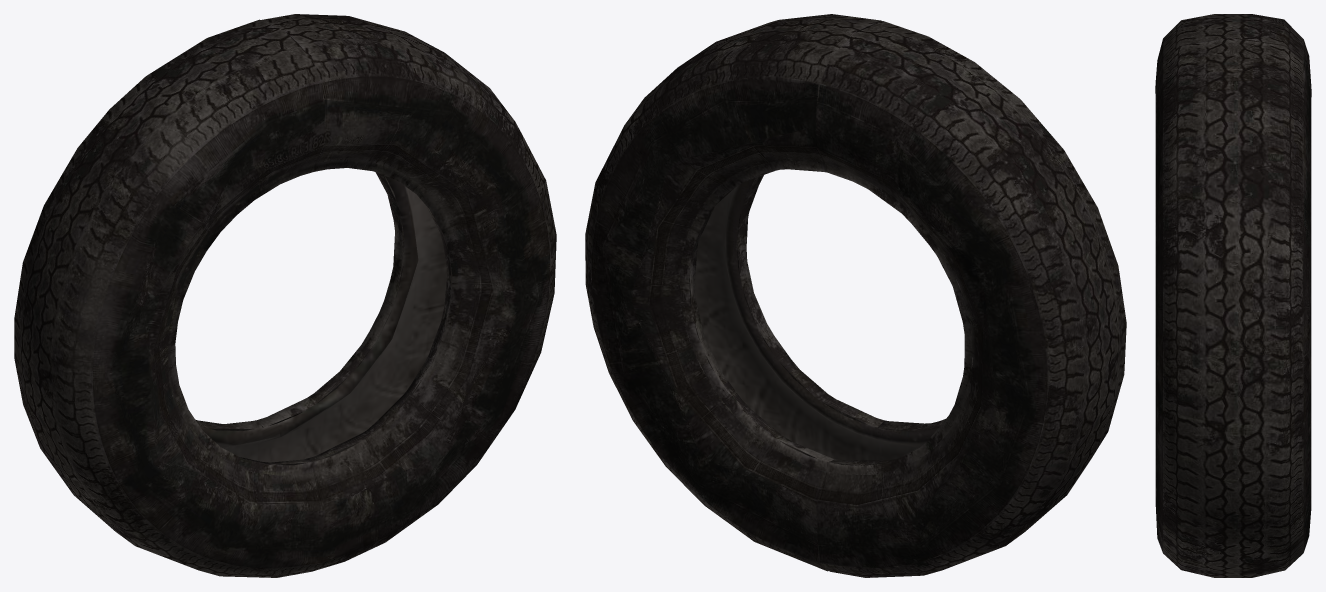
File: old_tyre.glb
3 views of the same model, side by side, from view 1: azimuth 30°, elevation 25°; view 2: azimuth 150°, elevation 25°; view 3: azimuth 270°, elevation 25° (orthographic). The views are drawn at different scales.
Visible parts, largest first — view 1: old_tyre; view 2: old_tyre; view 3: old_tyre.
Part boxes in pixels (x1,y1,x2,y2): old_tyre: (14,14,556,577); old_tyre: (585,14,1126,577); old_tyre: (1155,14,1311,577).
Size of the model in its own units: 0.6002 by 0.6035 by 0.1661.
1 material, 1 textured.
